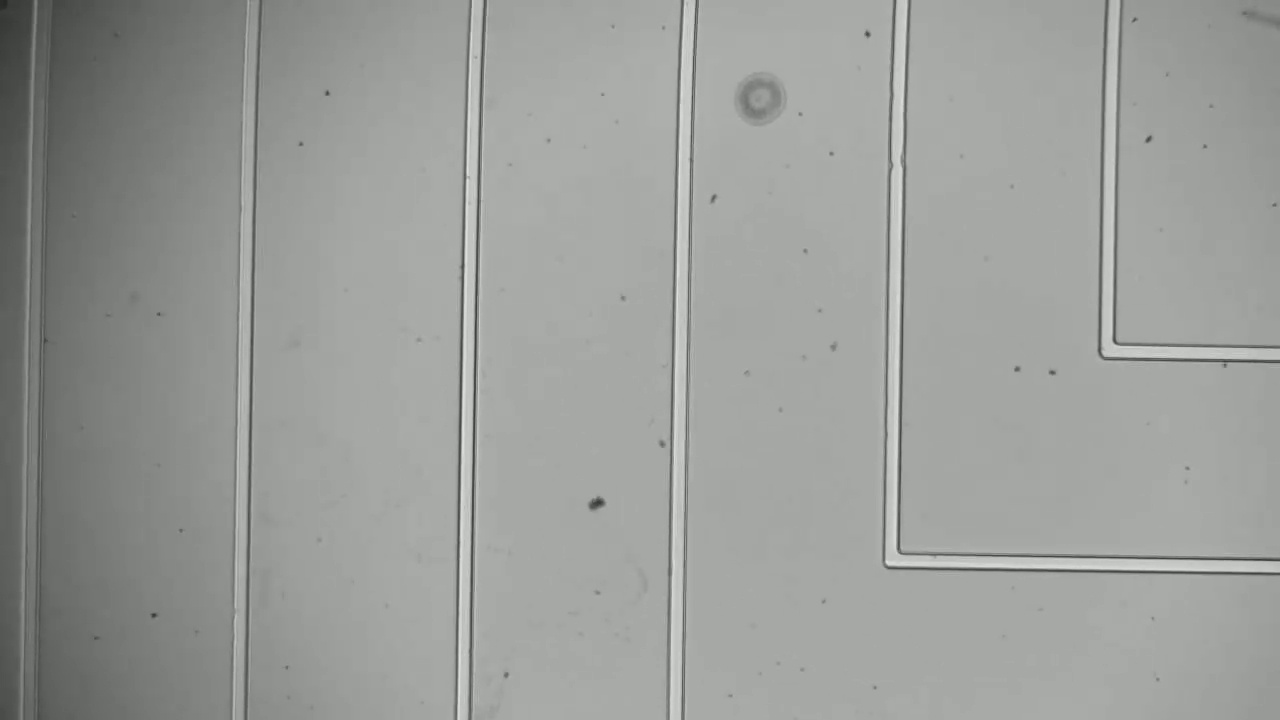edge_bite: (879, 145, 912, 174)
